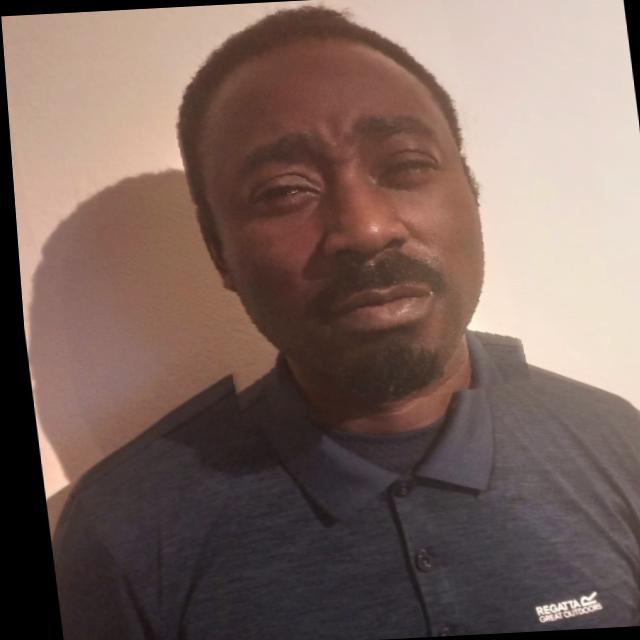sad: (161, 4, 519, 420)
